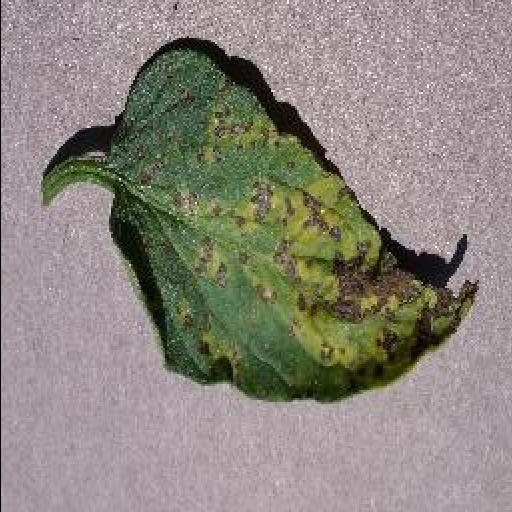disease_tomato: (108, 52, 482, 406)
